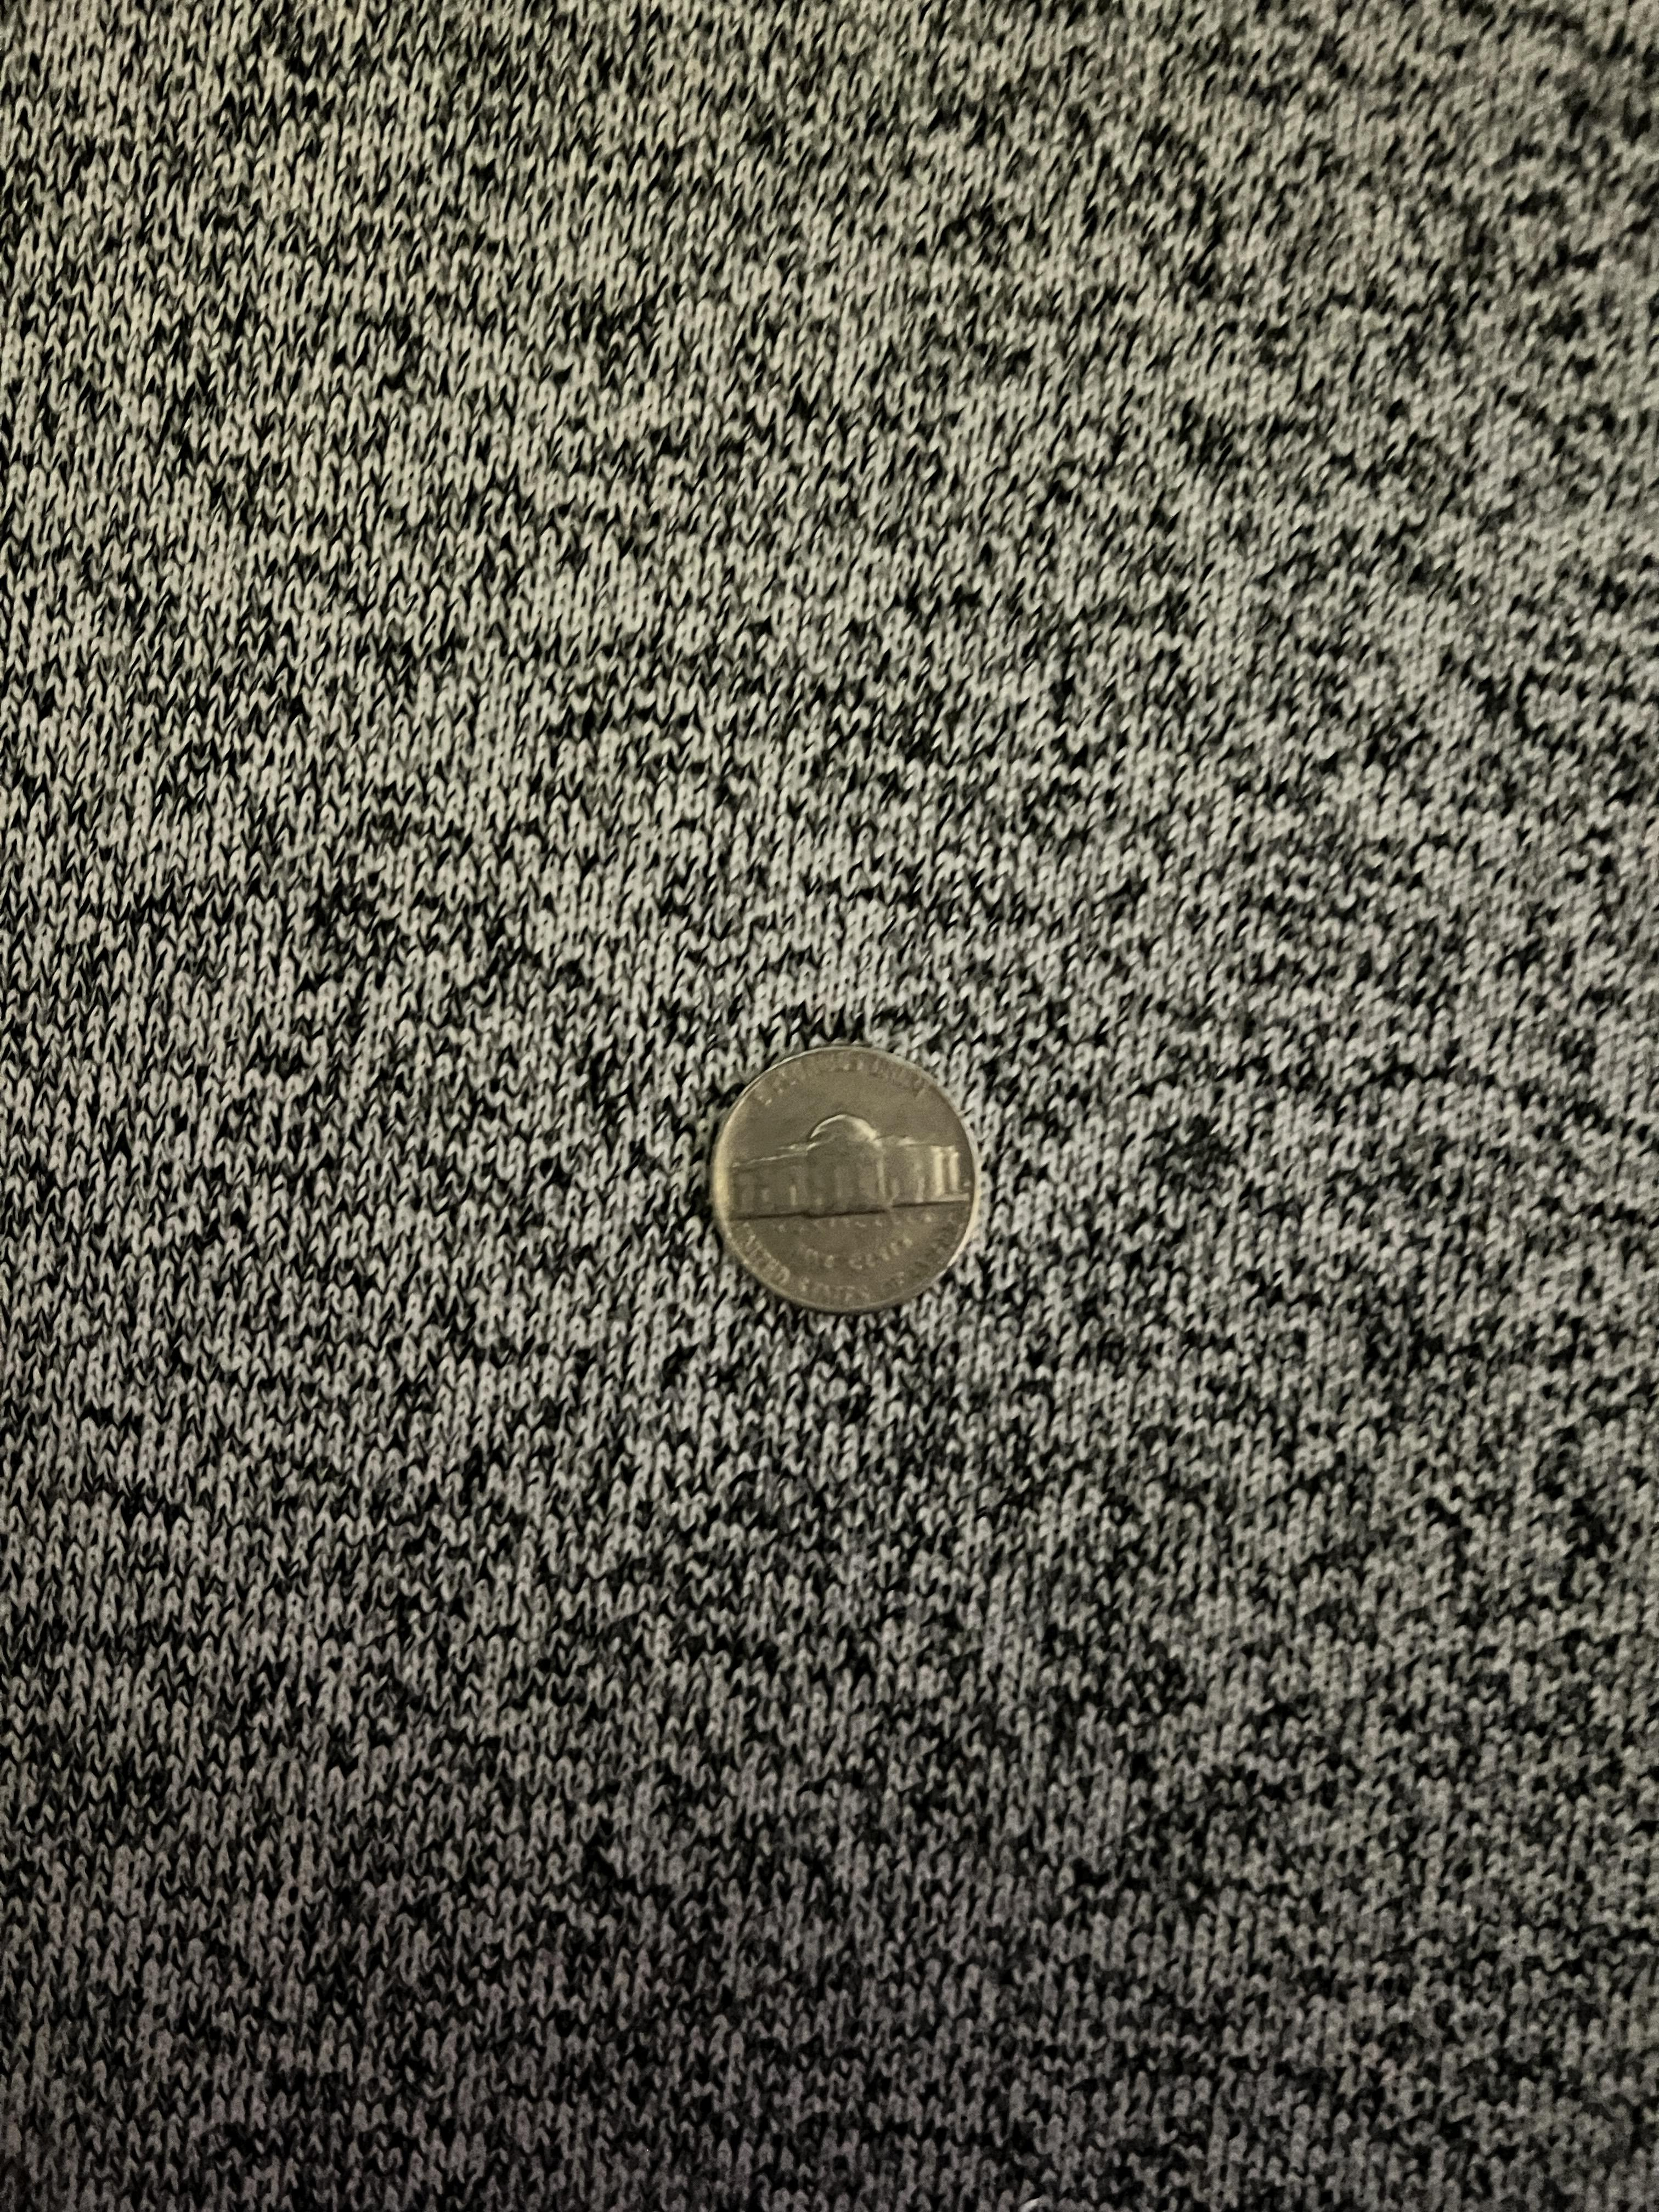Nickel: (692, 1040, 992, 1318)
